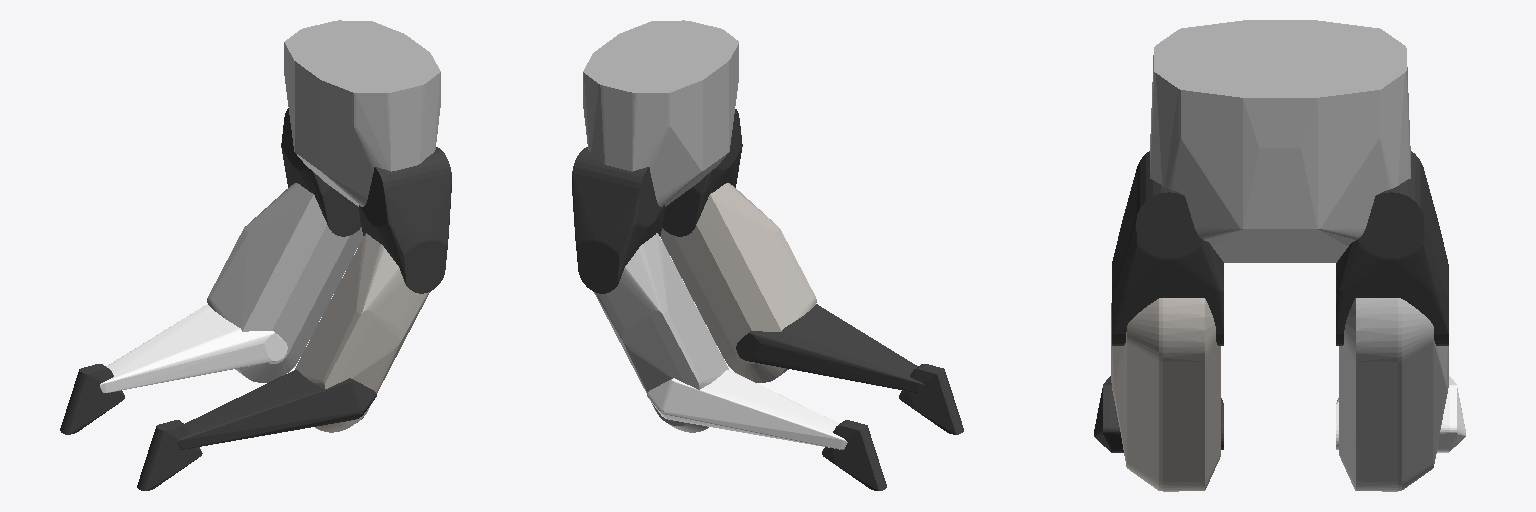
robot.urdf — spryped_urdf_rev06:
<?xml version="1.0" encoding="utf-8"?>
<!-- This URDF was automatically created by SolidWorks to URDF Exporter! Originally created by [author] ([email redacted]) 
     Commit Version: 1.5.1-0-g916b5db  Build Version: 1.5.7152.31018
     For more information, please see http://wiki.ros.org/sw_urdf_exporter -->
<robot
  name="spryped_urdf_rev06">
  <link
    name="body">
    <inertial>
      <origin
        xyz="0.047181 -3.0609E-06 0.076165"
        rpy="0 0 0" />
      <mass
        value="1.7038" />
      <inertia
        ixx="0.0033545"
        ixy="-3.2672E-09"
        ixz="8.3384E-06"
        iyy="0.0042956"
        iyz="-2.3336E-06"
        izz="0.0059126" />
    </inertial>
    <visual>
      <origin
        xyz="0 0 0"
        rpy="0 0 0" />
      <geometry>
        <mesh
          filename="body.obj"  scale="1 0.6 1.5"/>
      </geometry>
      <material
        name="">
        <color
          rgba="0.75294 0.75294 0.75294 1" />
      </material>
    </visual>
    <collision>
      <origin
        xyz="0 0 0"
        rpy="0 0 0" />
      <geometry>
        <mesh
          filename="body.obj" scale="1 0.6 1.5"/>
      </geometry>
    </collision>
  </link>
  <link
    name="left femur">
    <inertial>
      <origin
        xyz="0.00069777 0.056842 0.0014637"
        rpy="0 0 0" />
      <mass
        value="2.30999" />
      <inertia
        ixx="0.00070116"
        ixy="3.5726E-05"
        ixz="9.483E-08"
        iyy="0.00059024"
        iyz="-3.5642E-05"
        izz="0.00069104" />
    </inertial>
    <visual>
      <origin
        xyz="0 0 0"
        rpy="0 0 0" />
      <geometry>
        <mesh
          filename="left femur.obj"  />
      </geometry>
      <material
        name="">
        <color
          rgba="0.29804 0.29804 0.29804 1"  />
      </material>
    </visual>
    <collision>
      <origin
        xyz="0 0 0"
        rpy="0 0 0" />
      <geometry>
        <mesh
          filename="left femur.obj"  />
      </geometry>
    </collision>
  </link>
  <joint
    name="1"
    type="revolute">
    <origin
      xyz="0.051822 0.1 0.065904"
      rpy="-1.5708 0 0" />
    <parent
      link="body" />
    <child
      link="left femur" />
    <axis
      xyz="1 0 0" />
    <limit
      lower="0"
      upper="3.14"
      effort="80"
      velocity="10" />
    <dynamics damping="0.5" friction="0.5"/>
  </joint>
  <link
    name="left tibiotarsus">
    <inertial>
      <origin
        xyz="-0.0535 0.08423 -0.00048074"
        rpy="0 0 0" />
      <mass
        value="5.8773" />
      <inertia
        ixx="0.0034958"
        ixy="0.0014826"
        ixz="-8.2901E-08"
        iyy="0.0022584"
        iyz="1.2361E-07"
        izz="0.0053351" />
    </inertial>
    <visual>
      <origin
        xyz="0 0 0"
        rpy="0 0 0" />
      <geometry>
        <mesh
          filename="left tibiotarsus.obj" />
      </geometry>
      <material
        name="">
        <color
          rgba="0.75294 0.75294 0.75294 1" />
      </material>
    </visual>
    <collision>
      <origin
        xyz="0 0 0"
        rpy="0 0 0" />
      <geometry>
        <mesh
          filename="left tibiotarsus.obj"  />
      </geometry>
    </collision>
  </link>
  <joint
    name="2"
    type="revolute">
    <origin
      xyz="0 0.114 0"
      rpy="0 0 0" />
    <parent
      link="left femur" />
    <child
      link="left tibiotarsus" />
    <axis
      xyz="0 0 -1" />
    <limit
      lower="-0.5"
      upper="2"
      effort="0"
      velocity="15" />
    <dynamics damping="0.5" friction="0.5"/>
  </joint>
  <link
    name="left tarsometatarsus">
    <inertial>
      <origin
        xyz="0.053129 0.093369 0.015338"
        rpy="0 0 0" />
      <mass
        value="5.38839" />
      <inertia
        ixx="0.00096573"
        ixy="-0.00056636"
        ixz="-1.259E-05"
        iyy="0.0010982"
        iyz="4.5106E-05"
        izz="0.0015965" />
    </inertial>
    <visual>
      <origin
        xyz="0 0 0"
        rpy="0 0 0" />
      <geometry>
        <mesh
          filename="left tarsometatarsus.obj" scale="0.5 0.5 1" />
      </geometry>
      <material
        name="">
        <color
          rgba="1 1 1 1" />
      </material>
    </visual>
    <collision>
      <origin
        xyz="0 0 0"
        rpy="0 0 0" />
      <geometry>
        <mesh
          filename="left tarsometatarsus.obj" scale="0.5 0.5 1" />
      </geometry>
    </collision>
  </link>
  <joint
    name="3"
    type="revolute">
    <origin
      xyz="-0.105453933582408 0.168761571135129 0"
      rpy="0 0 0.558505360638189" />
    <parent
      link="left tibiotarsus" />
    <child
      link="left tarsometatarsus" />
    <axis
      xyz="0 0 -1" />
    <limit
      lower="-2.7"
      upper="-0.75"
      effort="80"
      velocity="15" />
    <dynamics damping="0.5" friction="0.5"/>
  </joint>
  <link
    name="left toe">
    <inertial>
      <origin
        xyz="-0.015193 0.829454 -8.5534E-11"
        rpy="0 0 0" />
      <mass
        value="0.11189" />
      <inertia
        ixx="4.0659E-05"
        ixy="-3.5337E-05"
        ixz="7.6361E-13"
        iyy="0.00018716"
        iyz="7.4475E-14"
        izz="0.00021756" />
    </inertial>
    <visual>
      <origin
        xyz="0 0 0"
        rpy="0 0 0" />
      <geometry>
        <mesh
          filename="left toe.obj"  scale="0.5 1 1" />
      </geometry>
      <material
        name="">
        <color
          rgba="0.29804 0.29804 0.29804 1" />
      </material>
    </visual>
    <collision>
      <origin
        xyz="0 0 0"
        rpy="0 0 0" />
      <geometry>
        <mesh
          filename="left toe.obj" scale="0.5 1 1" />
      </geometry>
    </collision>
  </link>
  <joint
    name="4"
    type="revolute">
    <origin
      xyz="0.168429623081206 0.14603956697683 -0.000249999999999057"
      rpy="0 0 -0.771008986271208" />
    <parent
      link="left tarsometatarsus" />
    <child
      link="left toe" />
    <axis
      xyz="0 0 -1" />
    <limit
      lower="-1"
      upper="1"
      effort="80"
      velocity="30" />
    <dynamics damping="0.5" friction="0.5"/>
  </joint>
  <link
    name="right femur">
    <inertial>
      <origin
        xyz="0.00069773 0.056842 -0.0014638"
        rpy="0 0 0" />
      <mass
        value="2.30999" />
      <inertia
        ixx="0.00070116"
        ixy="3.5726E-05"
        ixz="-9.5179E-08"
        iyy="0.00059025"
        iyz="3.5642E-05"
        izz="0.00069104" />
    </inertial>
    <visual>
      <origin
        xyz="0 0 0"
        rpy="0 0 0" />
      <geometry>
        <mesh
          filename="right femur.obj" />
      </geometry>
      <material
        name="">
        <color
          rgba="0.29804 0.29804 0.29804 1" />
      </material>
    </visual>
    <collision>
      <origin
        xyz="0 0 0"
        rpy="0 0 0" />
      <geometry>
        <mesh
          filename="right femur.obj" />
      </geometry>
    </collision>
  </link>
  <joint
    name="5"
    type="revolute">
    <origin
      xyz="0.051822 -0.1 0.065904"
      rpy="-1.5708 0 0" />
    <parent
      link="body" />
    <child
      link="right femur" />
    <axis
      xyz="1 0 0" />
    <limit
      lower="-3.14"
      upper="0"
      effort="0"
      velocity="10" />
    <dynamics damping="0.5" friction="0.5"/>
  </joint>
  <link
    name="right tibiotarsus">
    <inertial>
      <origin
        xyz="-0.053501 0.08423 0.00041314"
        rpy="0 0 0" />
      <mass
        value="5.8772" />
      <inertia
        ixx="0.0034958"
        ixy="0.0014826"
        ixz="7.9551E-08"
        iyy="0.0022584"
        iyz="-1.374E-07"
        izz="0.0053351" />
    </inertial>
    <visual>
      <origin
        xyz="0 0 0"
        rpy="0 0 0" />
      <geometry>
        <mesh
          filename="right tibiotarsus.obj" />
      </geometry>
      <material
        name="">
        <color
          rgba="0.77647 0.75686 0.73725 1" />
      </material>
    </visual>
    <collision>
      <origin
        xyz="0 0 0"
        rpy="0 0 0" />
      <geometry>
        <mesh
          filename="right tibiotarsus.obj" />
      </geometry>
    </collision>
  </link>
  <joint
    name="6"
    type="revolute">
    <origin
      xyz="0 0.114000000000013 0"
      rpy="0 0 0" />
    <parent
      link="right femur" />
    <child
      link="right tibiotarsus" />
    <axis
      xyz="0 0 1" />
    <limit
      lower="-2"
      upper="0.6"
      effort="0"
      velocity="15" />
    <dynamics damping="0.5" friction="0.5"/>
  </joint>
  <link
    name="right tarsometatarsus">
    <inertial>
      <origin
        xyz="0.053129 0.093369 -0.015837"
        rpy="0 0 0" />
      <mass
        value="5.38839" />
      <inertia
        ixx="0.00096573"
        ixy="-0.00056636"
        ixz="1.2589E-05"
        iyy="0.0010982"
        iyz="-4.5106E-05"
        izz="0.0015965" />
    </inertial>
    <visual>
      <origin
        xyz="0 0 0"
        rpy="0 0 0" />
      <geometry>
        <mesh
          filename="right tarsometatarsus.obj" scale="0.5 0.5 1" />
      </geometry>
      <material
        name="">
        <color
          rgba="0.29804 0.29804 0.29804 1" />
      </material>
    </visual>
    <collision>
      <origin
        xyz="0 0 0"
        rpy="0 0 0" />
      <geometry>
        <mesh
          filename="right tarsometatarsus.obj"  scale="0.5 0.5 1"/>
      </geometry>
    </collision>
  </link>
  <joint
    name="7"
    type="revolute">
    <origin
      xyz="-0.105453933582408 0.168761571135127 0"
      rpy="0 0 0.55850536063819" />
    <parent
      link="right tibiotarsus" />
    <child
      link="right tarsometatarsus" />
    <axis
      xyz="0 0 1" />
    <limit
      lower="0.75"
      upper="2.7"
      effort="80"
      velocity="15" />
    <dynamics damping="0.5" friction="0.5"/>
  </joint>
  <link
    name="right toe">
    <inertial>
      <origin
        xyz="-0.015193 0.829454 -8.5534E-11"
        rpy="0 0 0" />
      <mass
        value="0.11189" />
      <inertia
        ixx="4.0659E-05"
        ixy="-3.5337E-05"
        ixz="7.6361E-13"
        iyy="0.00018716"
        iyz="7.4475E-14"
        izz="0.00021756" />
    </inertial>
    <visual>
      <origin
        xyz="0 0 0"
        rpy="0 0 0" />
      <geometry>
        <mesh
          filename="right toe.obj" scale="0.5 1 1"  />
      </geometry>
      <material
        name="">
        <color
          rgba="0.29804 0.29804 0.29804 1" />
      </material>
    </visual>
    <collision>
      <origin
        xyz="0 0 0"
        rpy="0 0 0" />
      <geometry>
        <mesh
          filename="right toe.obj" scale="0.5 1 1"  />
      </geometry>
    </collision>
  </link>
  <joint
    name="8"
    type="revolute">
    <origin
      xyz="0.168429623081206 0.14603956697683 -0.000249999999999057"
      rpy="0 0 -0.771008986271209" />
    <parent
      link="right tarsometatarsus" />
    <child
      link="right toe" />
    <axis
      xyz="0 0 1" />
    <limit
      lower="-1"
      upper="1"
      effort="80"
      velocity="30" />
    <dynamics damping="0.5" friction="0.5"/>
  </joint>
</robot>

--- Render facts (derived) ---
Views: 3 orthographic renders of the robot side by side, from view 1: azimuth 30°, elevation 25°; view 2: azimuth 150°, elevation 25°; view 3: azimuth 270°, elevation 25°.
Model spryped_urdf_rev06 with 9 links and 8 joints (8 revolute), rooted at body, posed joints at zero except 2 at the middle of their limits (3 = -1.73, 7 = 1.73).
Links seen in each view (by area): view 1: body, left tibiotarsus, right tibiotarsus, right femur, left tarsometatarsus, right tarsometatarsus, left femur, left toe, right toe; view 2: body, right tibiotarsus, left tibiotarsus, left femur, right tarsometatarsus, left tarsometatarsus, right femur, right toe, left toe; view 3: body, left tibiotarsus, right tibiotarsus, left femur, right femur, right tarsometatarsus, left tarsometatarsus.
Link boxes in pixels (bbox=[...]): body: bbox=[284, 20, 440, 206]; left tibiotarsus: bbox=[207, 183, 363, 382]; right tibiotarsus: bbox=[295, 233, 429, 432]; right femur: bbox=[359, 147, 451, 293]; left tarsometatarsus: bbox=[100, 304, 287, 392]; right tarsometatarsus: bbox=[177, 370, 376, 449]; left femur: bbox=[281, 108, 360, 236]; left toe: bbox=[60, 364, 124, 434]; right toe: bbox=[137, 420, 202, 490]; body: bbox=[583, 20, 738, 206]; right tibiotarsus: bbox=[660, 183, 816, 382]; left tibiotarsus: bbox=[594, 233, 728, 432]; left femur: bbox=[572, 147, 664, 293]; right tarsometatarsus: bbox=[736, 304, 924, 392]; left tarsometatarsus: bbox=[647, 370, 847, 449]; right femur: bbox=[662, 109, 742, 236]; right toe: bbox=[899, 364, 963, 434]; left toe: bbox=[822, 420, 886, 490]; body: bbox=[1150, 20, 1410, 262]; left tibiotarsus: bbox=[1339, 298, 1448, 491]; right tibiotarsus: bbox=[1111, 298, 1220, 491]; left femur: bbox=[1336, 151, 1448, 345]; right femur: bbox=[1112, 151, 1223, 345]; right tarsometatarsus: bbox=[1094, 376, 1223, 452]; left tarsometatarsus: bbox=[1336, 376, 1465, 452].
Bounding box of the posed robot: 0.4773 × 0.3347 × 0.4873 m (x, y, z).
Meshes: 9 distinct files referenced, 9 mesh visuals loaded (9 OBJ).